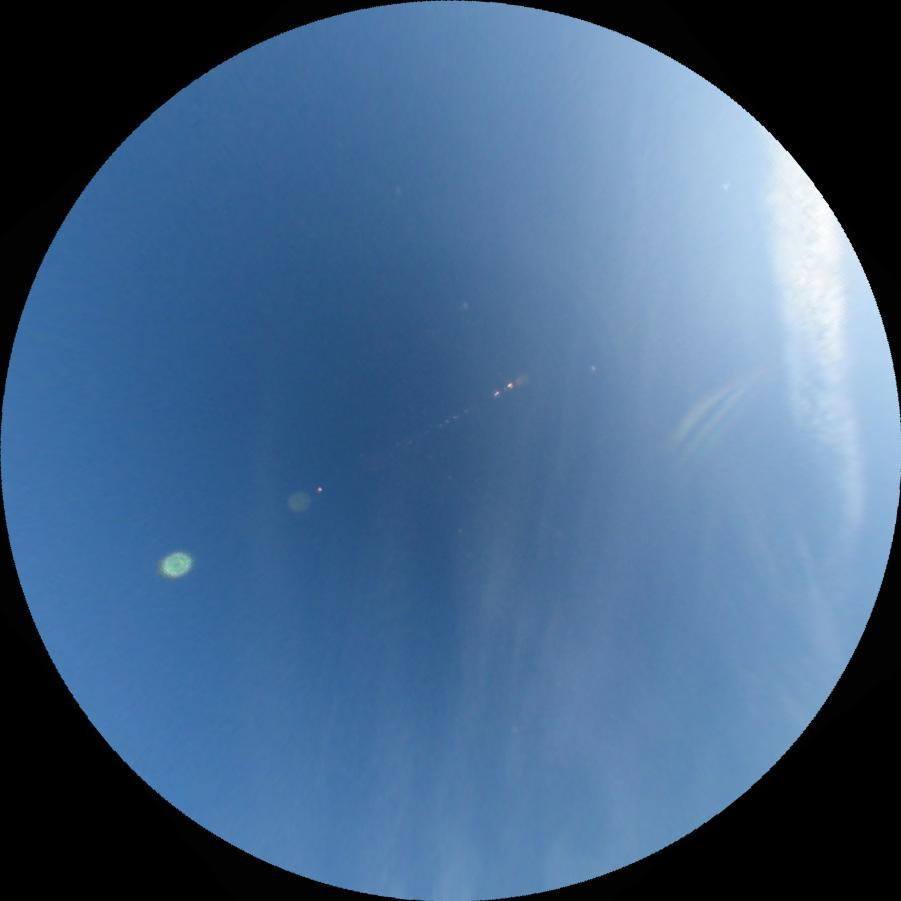contrail veryold: (751, 120, 877, 563)
parasite: (660, 367, 747, 452)
